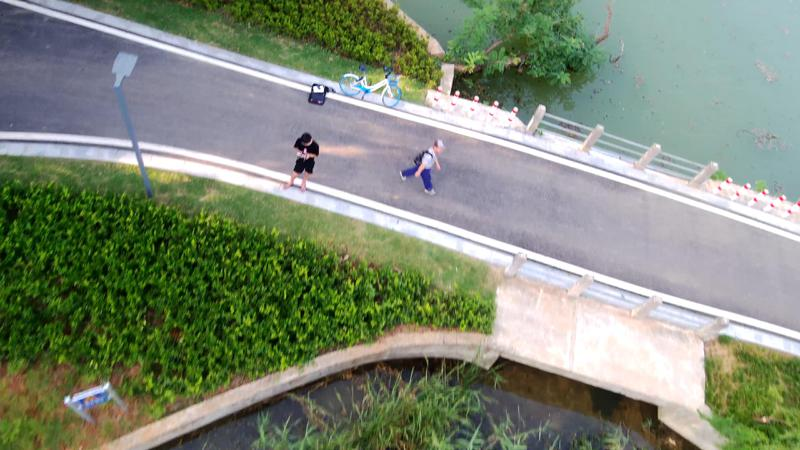passerby: (398, 137, 446, 197), (281, 129, 320, 193)
